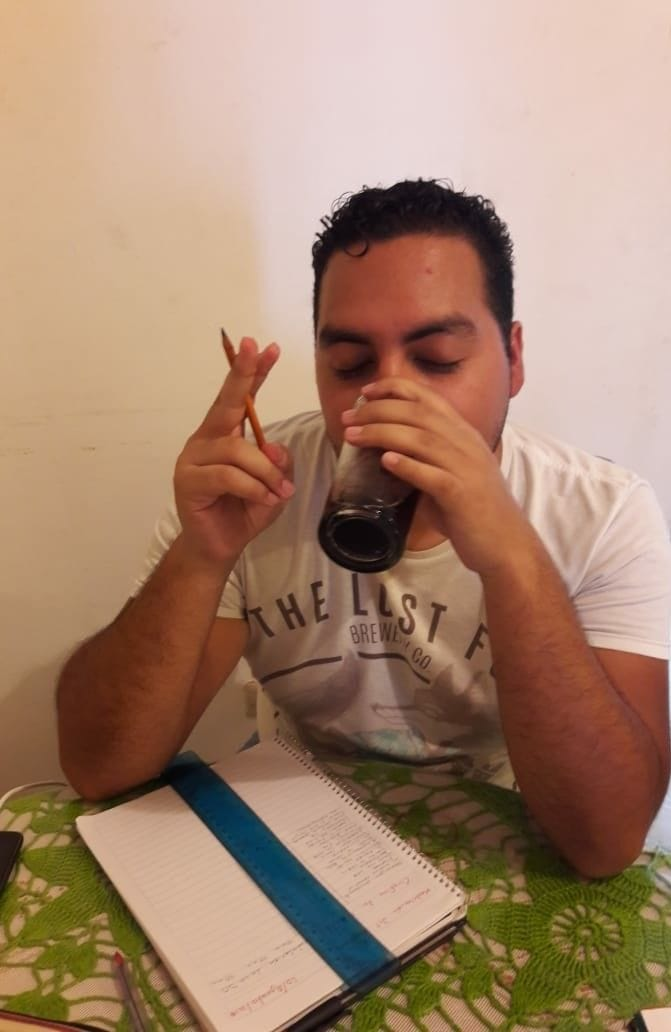Yoshi: (168, 165, 617, 789)
